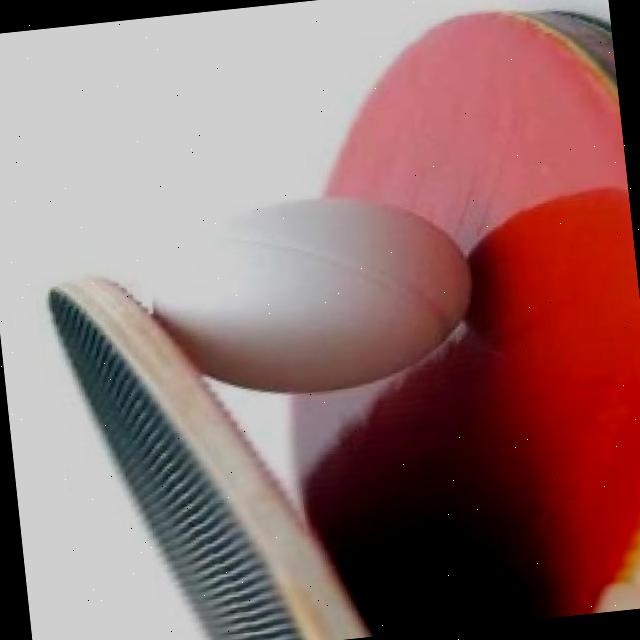ping-pong-ball: (140, 184, 484, 411)
